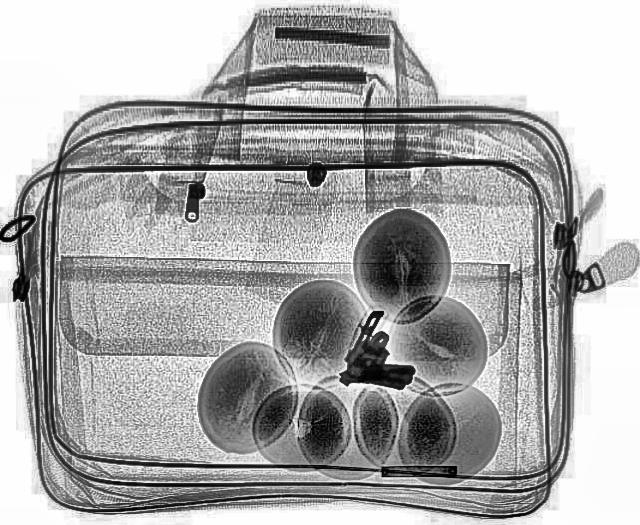Gun: (331, 306, 439, 398), (342, 330, 430, 394)
